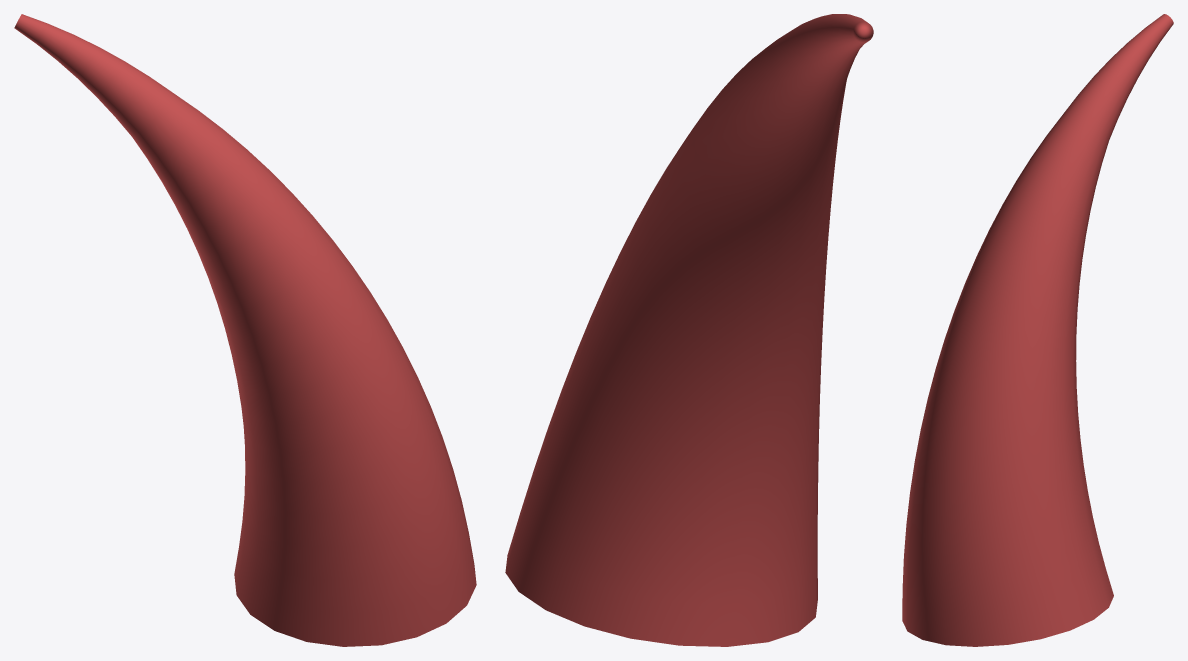
File: devil_horn_r.glb
The picture shows the model from 3 angles, left to right: view 1: azimuth 30°, elevation 25°; view 2: azimuth 150°, elevation 25°; view 3: azimuth 270°, elevation 25°; orthographic projection. The views are drawn at different scales.
Bounding box in the file's own units: 0.0406 × 0.0625 × 0.0305.
